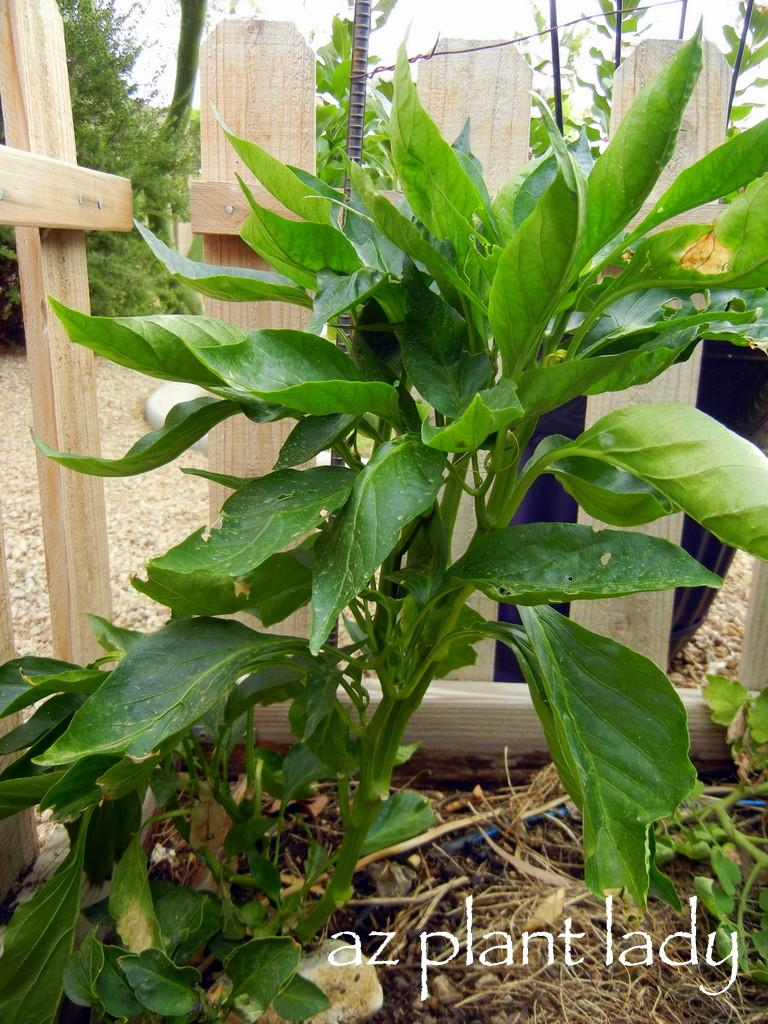Bell_pepper leaf spot: (513, 609, 699, 903), (50, 609, 308, 756), (578, 397, 768, 569), (314, 440, 444, 647), (146, 472, 354, 597), (207, 312, 407, 440), (463, 520, 731, 615), (377, 46, 497, 244), (55, 300, 269, 407), (598, 26, 688, 259), (495, 185, 588, 377), (375, 265, 498, 409), (36, 413, 255, 482)
